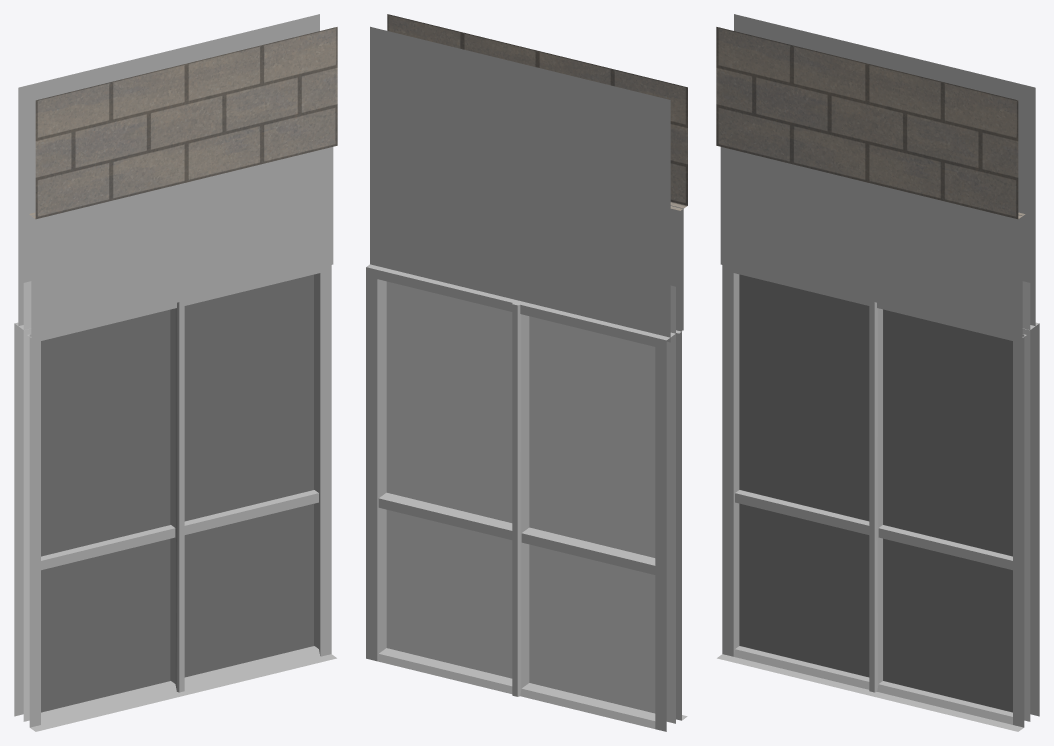
Rendered from WhiteBrick_Window_Center.gltf.
3 views of the same model, side by side, from view 1: azimuth 30°, elevation 25°; view 2: azimuth 150°, elevation 25°; view 3: azimuth 330°, elevation 25° (orthographic).
Parts seen in each view (by area): view 1: WhiteBrick_Window_Center; view 2: WhiteBrick_Window_Center; view 3: WhiteBrick_Window_Center.
Part boxes in pixels (x1,y1,x2,y2): WhiteBrick_Window_Center: [14, 14, 337, 731]; WhiteBrick_Window_Center: [366, 14, 687, 731]; WhiteBrick_Window_Center: [716, 14, 1039, 731].
Size of what is drawn, in the model's own units: 2 by 4 by 0.2599.
